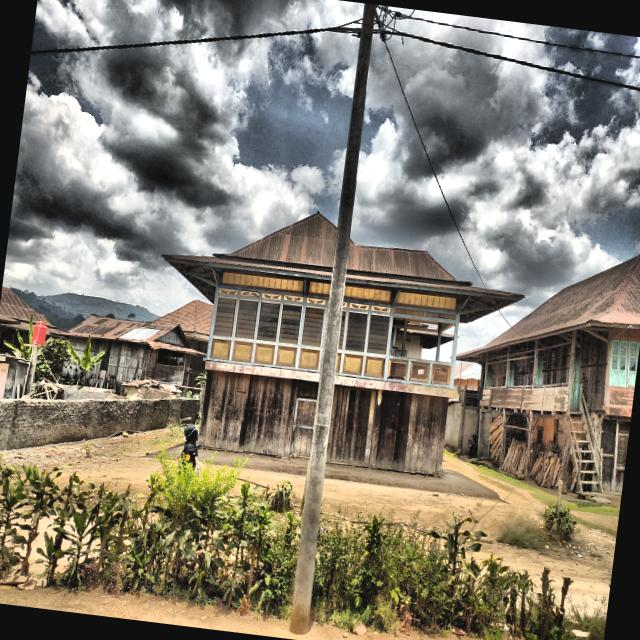column: (197, 369, 214, 447), (282, 378, 298, 459), (368, 389, 383, 468), (434, 396, 448, 476), (560, 415, 570, 490), (524, 413, 534, 478), (499, 410, 508, 467), (591, 412, 602, 449), (457, 403, 465, 450), (477, 408, 483, 458)
door: (289, 397, 317, 457), (570, 347, 580, 407)
ornamen: (209, 338, 231, 360), (231, 340, 253, 362), (298, 347, 320, 369), (275, 345, 297, 367), (363, 355, 385, 377), (342, 353, 364, 375), (253, 343, 275, 364), (430, 363, 451, 385), (409, 360, 430, 382), (387, 358, 408, 380), (335, 352, 341, 372)
roof: (160, 210, 524, 323), (455, 254, 640, 363), (48, 315, 206, 355), (0, 286, 66, 339), (151, 299, 213, 340)
stair: (568, 383, 606, 497)
wall: (209, 270, 303, 367), (203, 370, 292, 455), (375, 389, 442, 474), (335, 284, 392, 378), (325, 384, 376, 466), (569, 328, 607, 409), (84, 338, 148, 383), (298, 280, 330, 370), (609, 328, 640, 408), (600, 416, 630, 493), (535, 343, 571, 385), (394, 290, 457, 312), (508, 356, 534, 385), (485, 360, 507, 387)
window: (234, 298, 258, 339), (278, 303, 302, 344), (212, 296, 236, 336), (256, 301, 280, 341), (344, 311, 367, 352), (301, 306, 324, 346), (366, 314, 389, 354), (609, 339, 627, 386), (626, 341, 640, 387), (535, 352, 544, 385), (99, 352, 109, 370), (508, 360, 515, 385), (485, 364, 492, 386)
